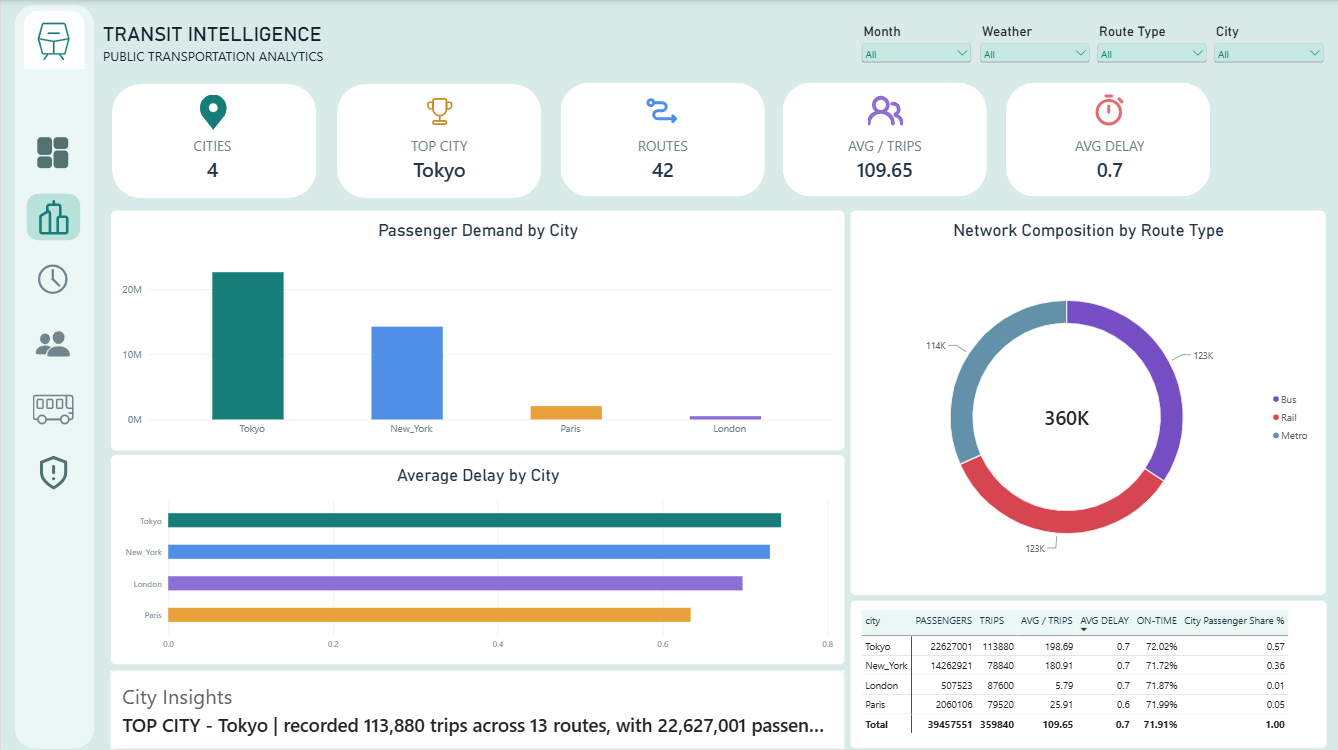

The dashboard page shown, as its layout file describes it:
{"tool":"powerbi","page":{"name":"City Intelligence","canvas":[1920,1080],"ordinal":1},"visuals":[{"type":"shape","box":[19.5,7.3,114.7,1066.2],"z":0},{"type":"textbox","title":"TRANSIT INTELLIGENCE","box":[146.4,31.7,366,61],"z":1000},{"type":"clusteredColumnChart","title":"Passenger Demand by City","fields":{"Category":["public_transportation_cleaned.city"],"Y":["_Measures.Total Passengers"]},"box":[157.7,300,1052.3,345.4],"z":2000},{"type":"donutChart","title":"Network Composition by Route Type","fields":{"Category":["public_transportation_cleaned.route_type"],"Y":["_Measures.Total Trips"]},"box":[1216.2,300,683.8,512.3],"z":3000},{"type":"pivotTable","fields":{"Rows":["public_transportation_cleaned.city"],"Values":["_Measures.Total Passengers","_Measures.Total Trips","_Measures.Avg Passengers per Trip","_Measures.Average Delay","_Measures.On-Time Rate %","_Measures.City Passenger Share %"]},"box":[1216,822,682.5,250],"z":4000},{"type":"clusteredBarChart","title":"Average Delay by City","fields":{"Category":["public_transportation_cleaned.city"],"Y":["_Measures.Average Delay"]},"box":[157.7,651.5,1052.3,301.5],"z":5000},{"type":"shape","box":[31.4,15.9,87.7,84.1],"z":6000},{"type":"image","box":[35.5,26.4,78.2,63.6],"z":7000},{"type":"shape","box":[37.5,186.2,76.9,67.5],"z":8000},{"type":"shape","box":[37.3,277.3,77.3,67.3],"z":9000},{"type":"shape","box":[37.3,367.3,77.3,67.3],"z":10000},{"type":"shape","box":[37.3,459.1,76.9,67.5],"z":11000},{"type":"shape","box":[37.3,551.8,76.9,67.5],"z":12000},{"type":"shape","box":[37.3,644.5,76.9,67.5],"z":13000},{"type":"image","box":[41,194,66.7,50.8],"z":14000},{"type":"image","box":[39.1,281.8,74,59],"z":15000},{"type":"image","box":[41.8,374.5,66.4,51.8],"z":16000},{"type":"image","box":[39.1,466.4,71.8,52.7],"z":17000},{"type":"image","box":[39.1,556.4,71.8,59.1],"z":18000},{"type":"image","box":[38.2,651.8,73.6,51.8],"z":19000},{"type":"actionButton","box":[46,195,58.4,49.5],"z":20000},{"type":"actionButton","box":[46.2,286.2,58.4,49.5],"z":21000},{"type":"actionButton","box":[46.3,375.8,58.4,49.5],"z":22000},{"type":"actionButton","box":[45.8,467.9,58.4,49.5],"z":23000},{"type":"actionButton","box":[46,561,59,50],"z":24000},{"type":"actionButton","box":[46,653.3,58.4,49.5],"z":25000},{"type":"shape","box":[158.6,119.6,292.8,163.5],"z":26000},{"type":"shape","box":[481.1,120,292.8,163.5],"z":27000},{"type":"shape","box":[801.1,118.9,292.8,163.5],"z":28000},{"type":"shape","box":[1120,118.9,292.8,163.5],"z":29000},{"type":"shape","box":[1440,118.9,292.8,163.5],"z":30000},{"type":"cardVisual","fields":{"Data":["_Measures.CITIES"]},"box":[215.6,177.8,176.7,100],"z":31000},{"type":"cardVisual","fields":{"Data":["_Measures.Top City"]},"box":[538.9,177.8,177,100],"z":32000},{"type":"cardVisual","fields":{"Data":["_Measures.ROUTES"]},"box":[858.9,177.8,177,100],"z":33000},{"type":"cardVisual","fields":{"Data":["_Measures.AVG / TRIPS"]},"box":[1177.8,177.8,177,100],"z":34000},{"type":"cardVisual","fields":{"Data":["_Measures.AVG DELAY"]},"box":[1498.9,177.8,177,100],"z":35000},{"type":"image","box":[271.2,135,66.7,50.8],"z":36000},{"type":"image","box":[595,133.8,66.7,50.8],"z":37000},{"type":"image","box":[913.8,133.8,66.7,50.8],"z":38000},{"type":"image","box":[1232.5,133.8,66.7,50.8],"z":39000},{"type":"image","box":[1553,134,66.7,50.8],"z":40000},{"type":"slicer","fields":{"Values":["public_transportation_cleaned.city"]},"box":[1732.3,31.7,168.3,68.3],"z":41000},{"type":"slicer","fields":{"Values":["public_transportation_cleaned.route_type"]},"box":[1563.9,31.7,168.3,68.3],"z":42000},{"type":"slicer","fields":{"Values":["public_transportation_cleaned.weather_condition"]},"box":[1395.7,31.4,168.3,68.3],"z":43000},{"type":"slicer","fields":{"Values":["public_transportation_cleaned.timestamp.Variation.Date Hierarchy.Month"]},"box":[1227.1,31.4,168.3,68.3],"z":44000},{"type":"cardVisual","fields":{"Data":["_Measures.Executive Insights"]},"box":[157.5,960,1051.2,112.5],"z":45000},{"type":"actionButton","box":[31.4,25.7,87.1,74.3],"z":46000}]}

Visuals, with their boxes on the page's 1920x1080 design canvas (x1, y1, x2, y2). These are canvas units, not pixel positions in the 1338x750 screenshot, which may show the page scaled, cropped or inside an application window:
shape: bbox=[20, 7, 134, 1074]
"TRANSIT INTELLIGENCE" textbox: bbox=[146, 32, 512, 93]
"Passenger Demand by City" clusteredColumnChart: bbox=[158, 300, 1210, 645]
"Network Composition by Route Type" donutChart: bbox=[1216, 300, 1900, 812]
pivotTable - public_transportation_cleaned.city x _Measures.Total Passengers: bbox=[1216, 822, 1898, 1072]
"Average Delay by City" clusteredBarChart: bbox=[158, 652, 1210, 953]
shape: bbox=[31, 16, 119, 100]
image: bbox=[36, 26, 114, 90]
shape: bbox=[38, 186, 114, 254]
shape: bbox=[37, 277, 115, 345]
shape: bbox=[37, 367, 115, 435]
shape: bbox=[37, 459, 114, 527]
shape: bbox=[37, 552, 114, 619]
shape: bbox=[37, 644, 114, 712]
image: bbox=[41, 194, 108, 245]
image: bbox=[39, 282, 113, 341]
image: bbox=[42, 374, 108, 426]
image: bbox=[39, 466, 111, 519]
image: bbox=[39, 556, 111, 616]
image: bbox=[38, 652, 112, 704]
actionButton: bbox=[46, 195, 104, 244]
actionButton: bbox=[46, 286, 105, 336]
actionButton: bbox=[46, 376, 105, 425]
actionButton: bbox=[46, 468, 104, 517]
actionButton: bbox=[46, 561, 105, 611]
actionButton: bbox=[46, 653, 104, 703]
shape: bbox=[159, 120, 451, 283]
shape: bbox=[481, 120, 774, 284]
shape: bbox=[801, 119, 1094, 282]
shape: bbox=[1120, 119, 1413, 282]
shape: bbox=[1440, 119, 1733, 282]
cardVisual - _Measures.CITIES: bbox=[216, 178, 392, 278]
cardVisual - _Measures.Top City: bbox=[539, 178, 716, 278]
cardVisual - _Measures.ROUTES: bbox=[859, 178, 1036, 278]
cardVisual - _Measures.AVG / TRIPS: bbox=[1178, 178, 1355, 278]
cardVisual - _Measures.AVG DELAY: bbox=[1499, 178, 1676, 278]
image: bbox=[271, 135, 338, 186]
image: bbox=[595, 134, 662, 185]
image: bbox=[914, 134, 980, 185]
image: bbox=[1232, 134, 1299, 185]
image: bbox=[1553, 134, 1620, 185]
slicer - public_transportation_cleaned.city: bbox=[1732, 32, 1901, 100]
slicer - public_transportation_cleaned.route_type: bbox=[1564, 32, 1732, 100]
slicer - public_transportation_cleaned.weather_condition: bbox=[1396, 31, 1564, 100]
slicer - public_transportation_cleaned.timestamp.Variation.Date Hierarchy.Month: bbox=[1227, 31, 1395, 100]
cardVisual - _Measures.Executive Insights: bbox=[158, 960, 1209, 1072]
actionButton: bbox=[31, 26, 118, 100]
